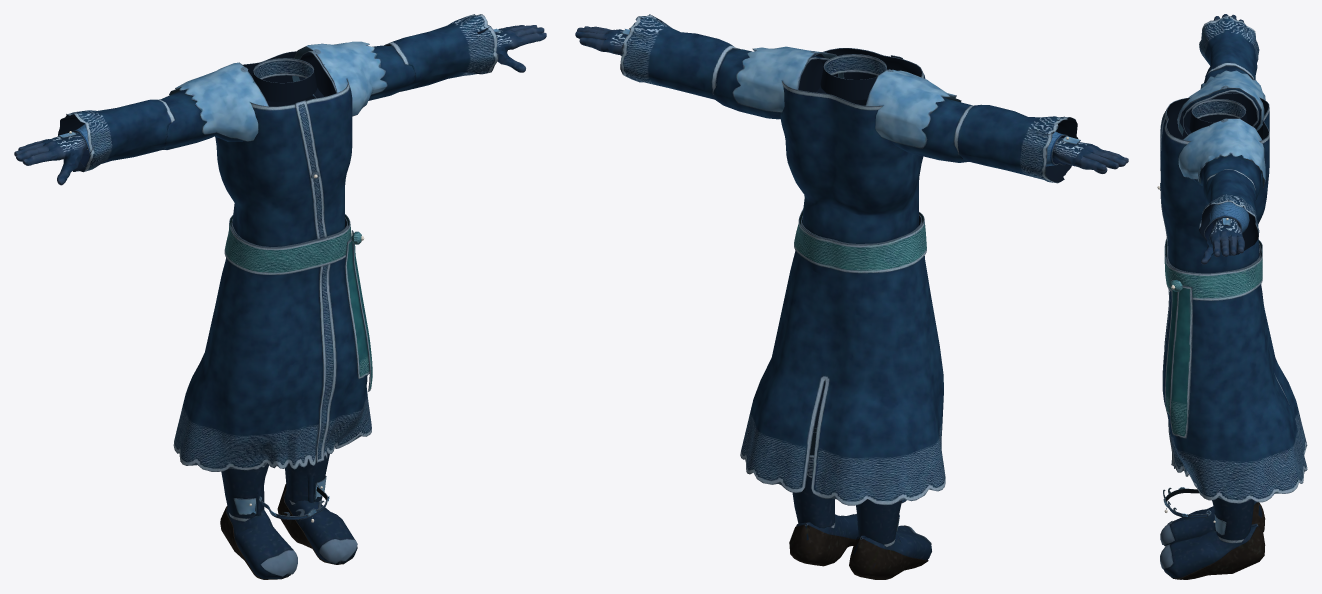
File: mage_abyssal.glb
3 renders of one model, left to right at view 1: azimuth 30°, elevation 25°; view 2: azimuth 150°, elevation 25°; view 3: azimuth 270°, elevation 25°, orthographic. The views are drawn at different scales.
Visible parts, largest first — view 1: robe, feet, gloves; view 2: robe, feet, gloves; view 3: robe, feet, gloves, circlet.
Part boxes in pixels (x1=…): robe: x1=57, y1=14, x2=498, y2=471; feet: x1=220, y1=453, x2=357, y2=579; gloves: x1=14, y1=25, x2=546, y2=185; robe: x1=620, y1=14, x2=1078, y2=505; feet: x1=789, y1=428, x2=931, y2=579; gloves: x1=575, y1=26, x2=1128, y2=173; robe: x1=1157, y1=16, x2=1307, y2=503; feet: x1=1160, y1=498, x2=1265, y2=579; gloves: x1=1201, y1=14, x2=1249, y2=264; circlet: x1=1163, y1=487, x2=1211, y2=518.
Size of the model in its own units: 1.8 by 1.61 by 0.4777.
4 materials, 4 textured.
